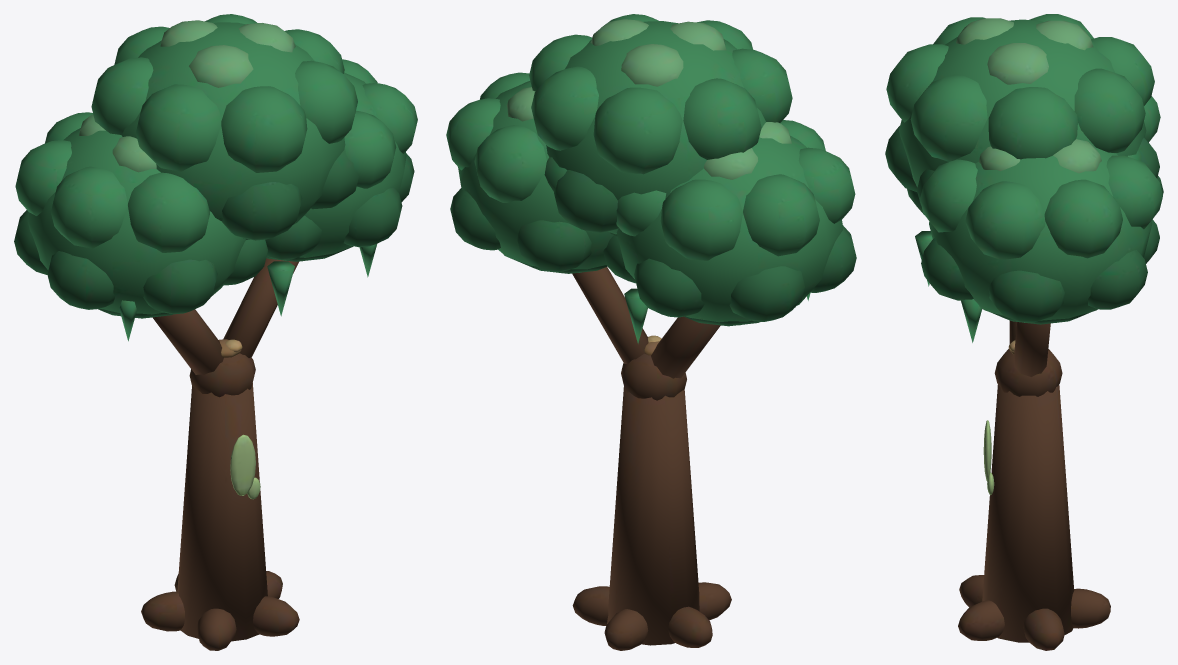
Rendered from trumua-street-tree.glb.
The picture shows the model from 3 angles, left to right: view 1: azimuth 30°, elevation 25°; view 2: azimuth 150°, elevation 25°; view 3: azimuth 270°, elevation 25°; orthographic projection.
Parts seen in each view (by area): view 1: trumua-street-tree; view 2: trumua-street-tree; view 3: trumua-street-tree.
Boxes of the visible parts, <box> form: trumua-street-tree: <box>14,14,417,650</box>; trumua-street-tree: <box>446,14,856,650</box>; trumua-street-tree: <box>885,14,1163,650</box>.
Size of the model in its own units: 2.14 by 3.3 by 1.4.
1 material, 1 textured.
